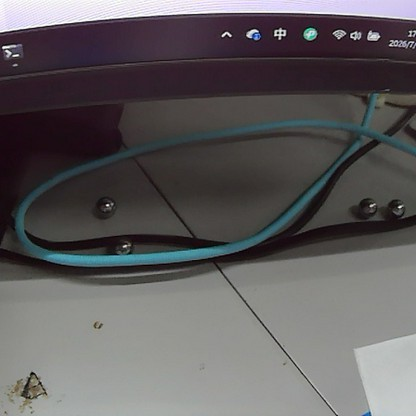ironball: (94, 193, 122, 224), (381, 193, 405, 223), (108, 233, 132, 262), (354, 194, 374, 220)
